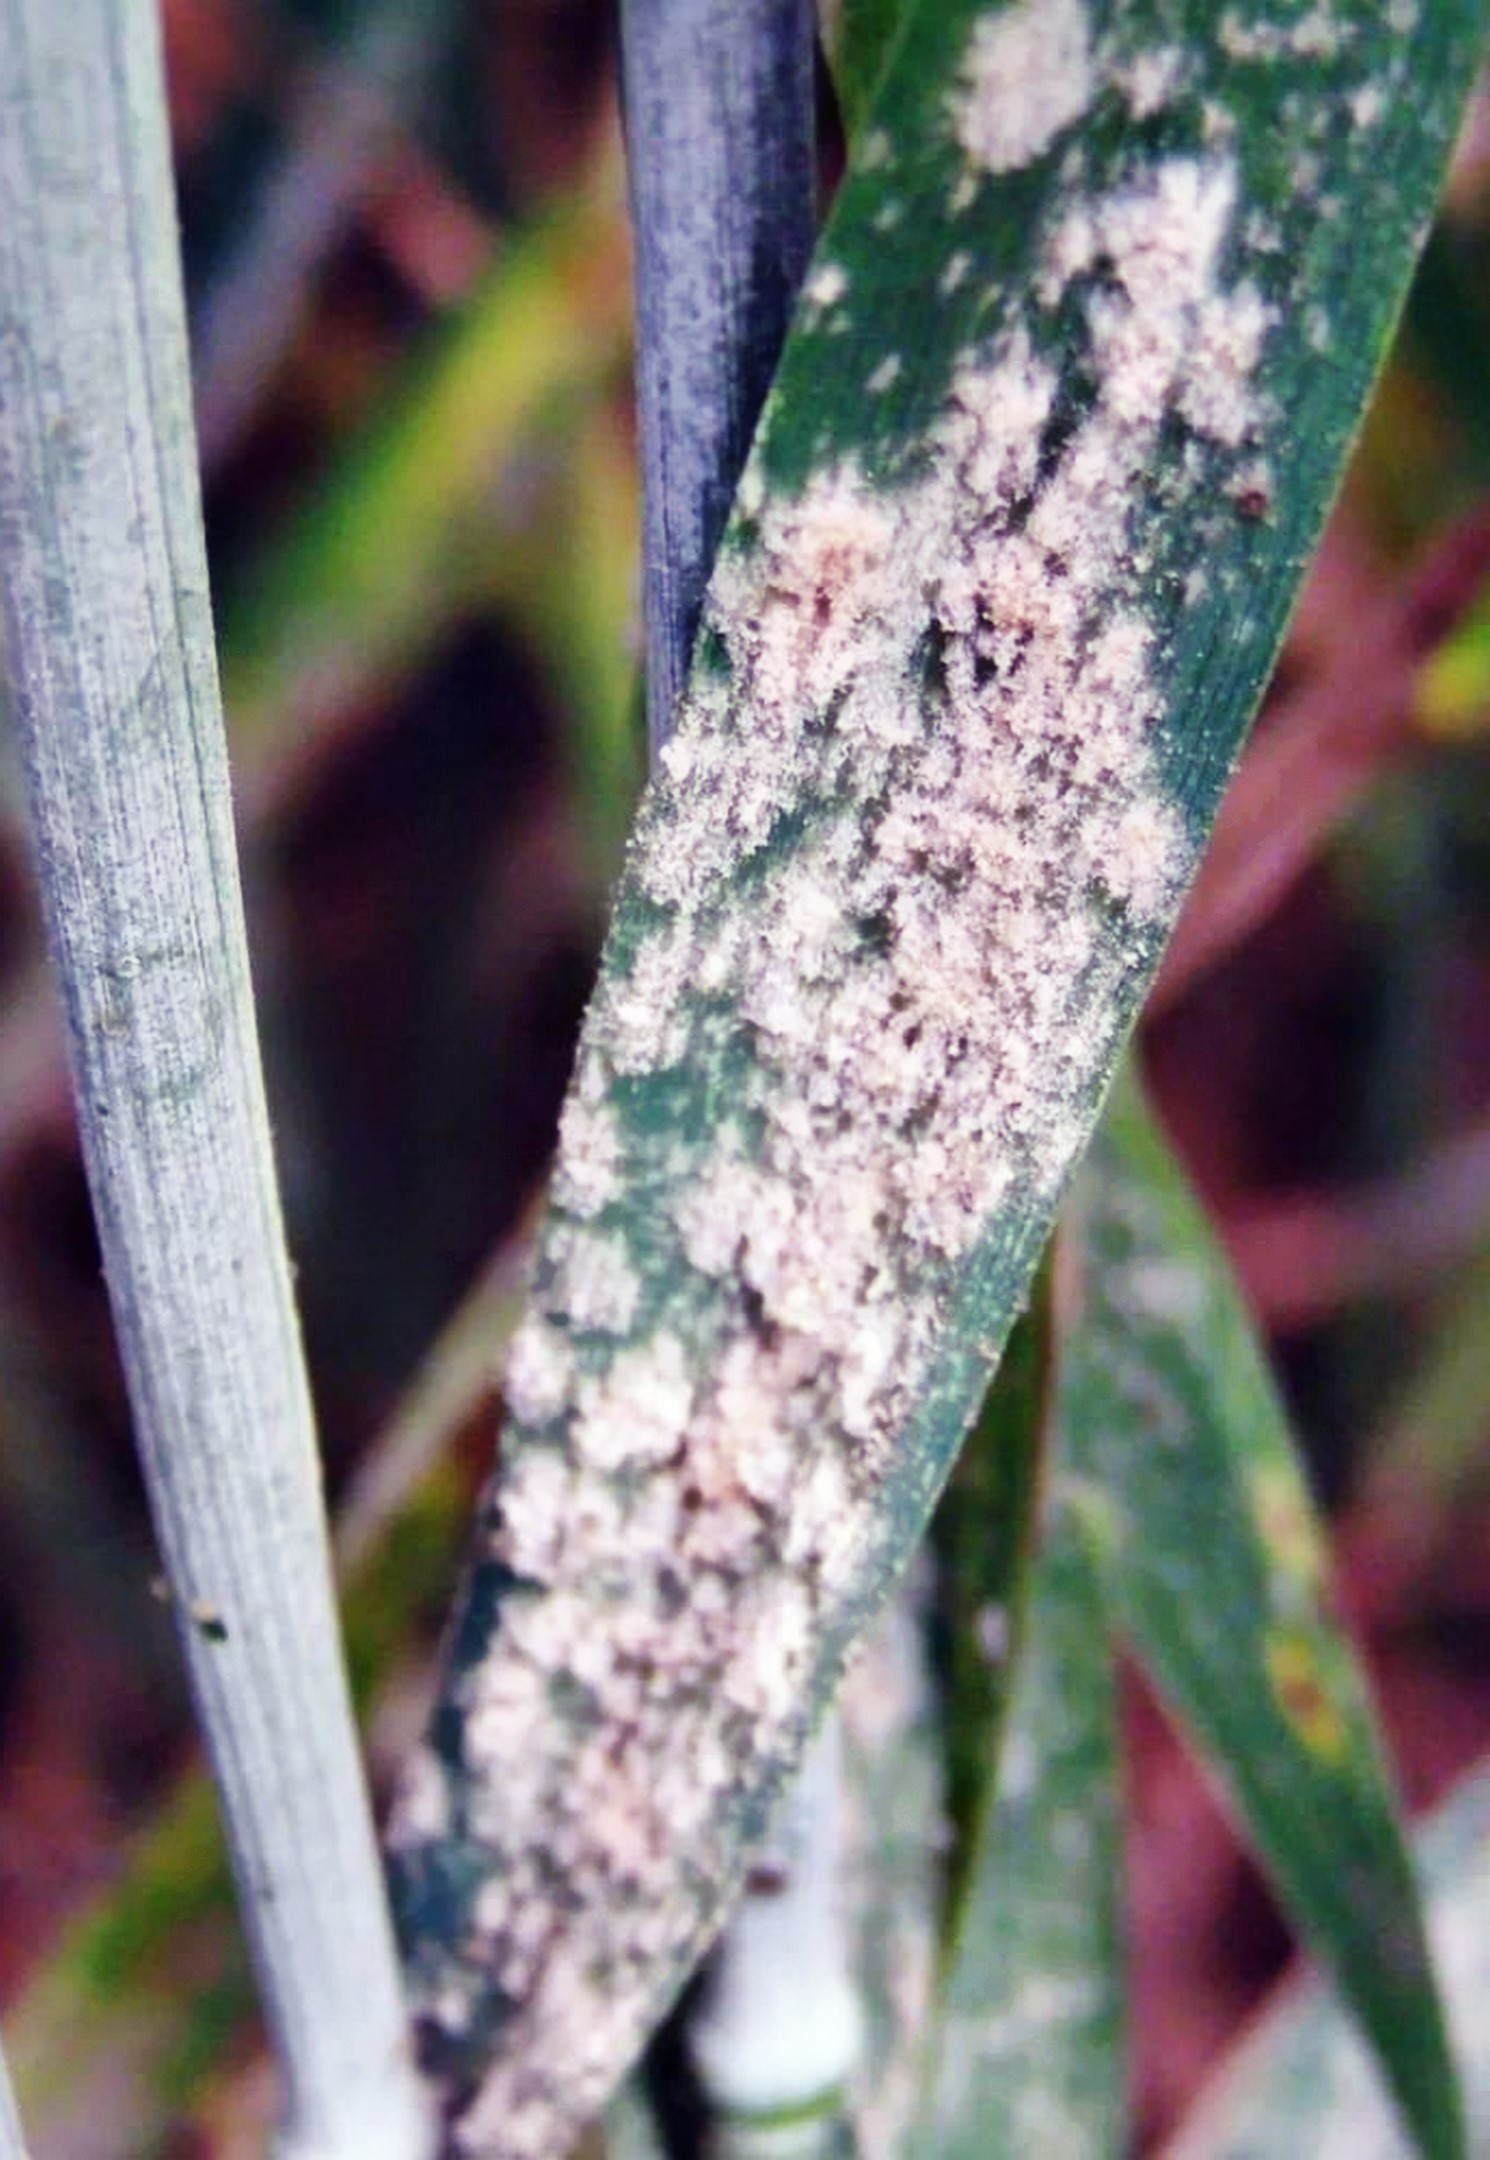Powdery Mildew: (469, 161, 1273, 1817)
